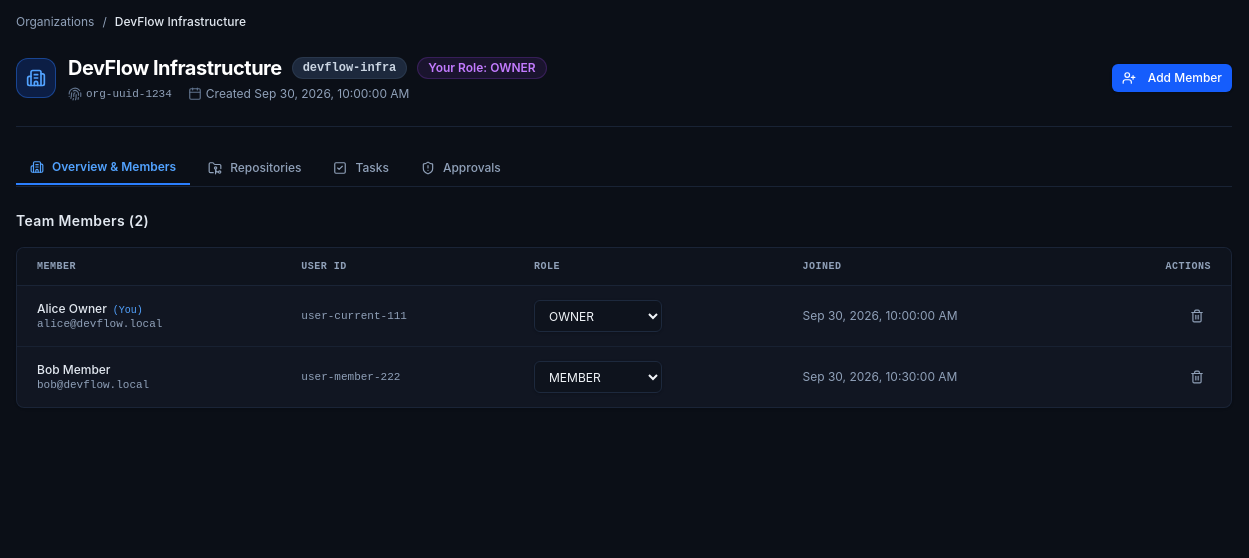
OrganizationDetailPage › displays authorization error when backend returns 403 Forbidden for member modification
Expected: the text "Bob Member" is shown, [37, 362, 110, 377]
Select "ADMIN" in the dropdown in the row of "Bob Member". click: (598, 377)
box: [534, 361, 662, 393]
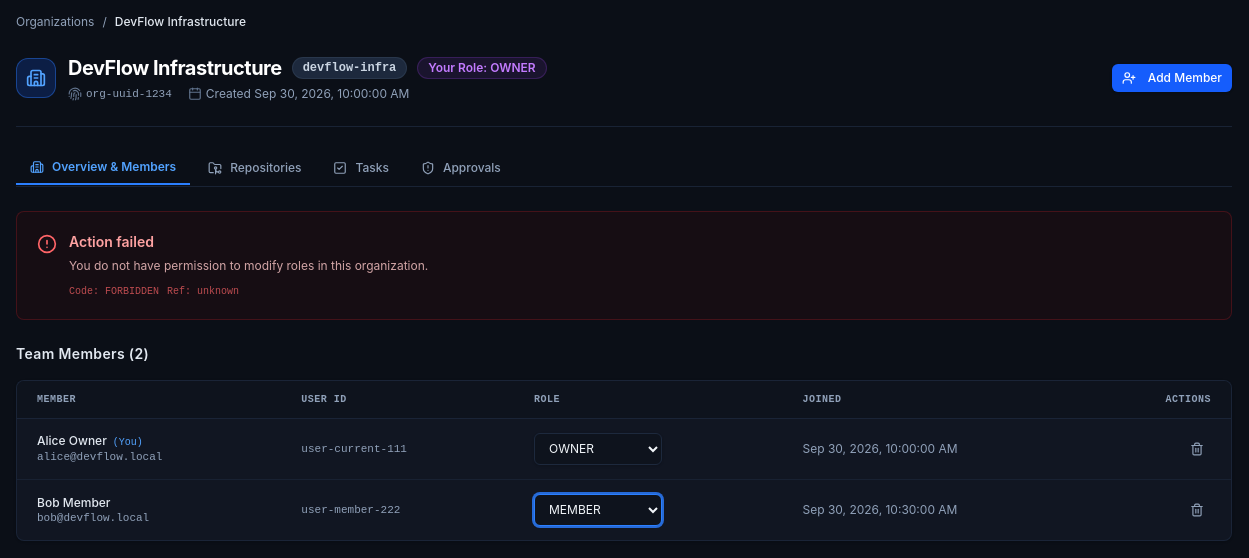
Now the text "You do not have permission to modify roles in this organization." is shown, box [69, 258, 428, 273]
